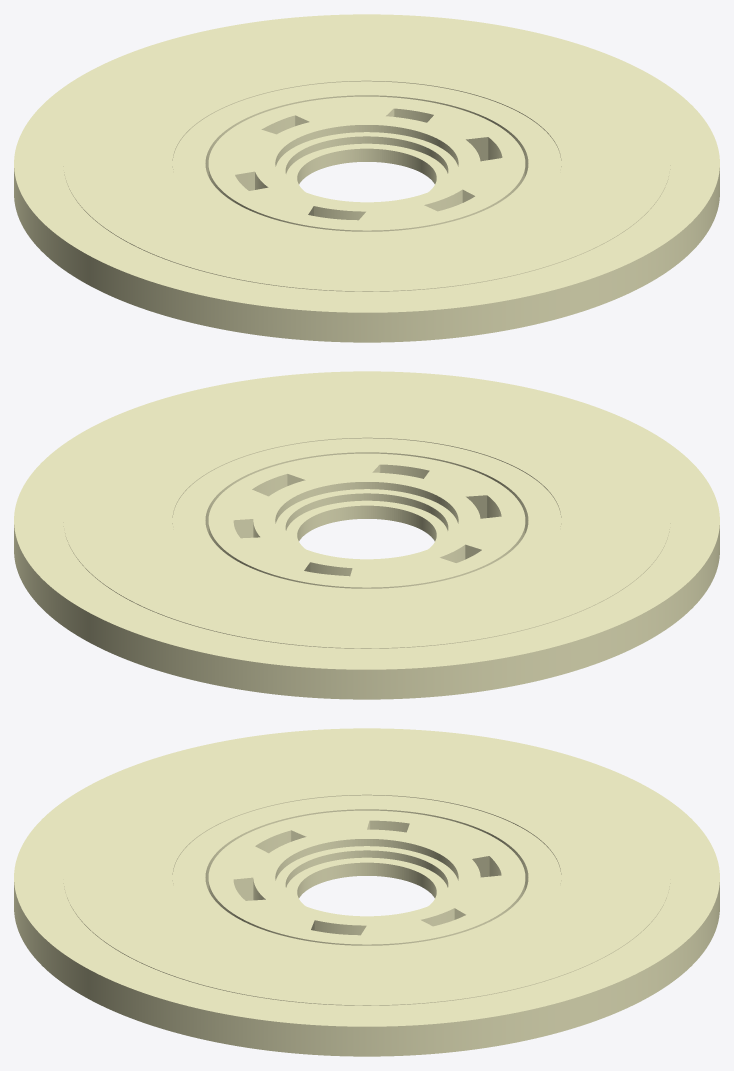
File: outlet.glb
3 renders of one model, top to bottom at view 1: azimuth 30°, elevation 25°; view 2: azimuth 150°, elevation 25°; view 3: azimuth 270°, elevation 25°, orthographic.
Parts seen in each view (by area): view 1: Circle004.001, Circle001, Circle005, Circle007, Circle009; view 2: Circle004.001, Circle001, Circle007, Circle005, Circle009; view 3: Circle004.001, Circle001, Circle005, Circle007, Circle009.
Part boxes in pixels (box(x1,y1,x2,y2)): Circle004.001: box(63, 34, 670, 291); Circle001: box(14, 14, 719, 342); Circle005: box(172, 81, 561, 244); Circle007: box(208, 96, 525, 231); Circle009: box(253, 115, 480, 220); Circle004.001: box(63, 391, 670, 648); Circle001: box(14, 371, 719, 699); Circle007: box(208, 453, 525, 588); Circle005: box(172, 438, 561, 601); Circle009: box(253, 472, 480, 576); Circle004.001: box(63, 748, 670, 1005); Circle001: box(14, 728, 719, 1056); Circle005: box(172, 795, 561, 958); Circle007: box(208, 810, 525, 945); Circle009: box(253, 829, 480, 935).
Bounding box in the file's own units: 2.72 × 0.1295 × 2.72.
